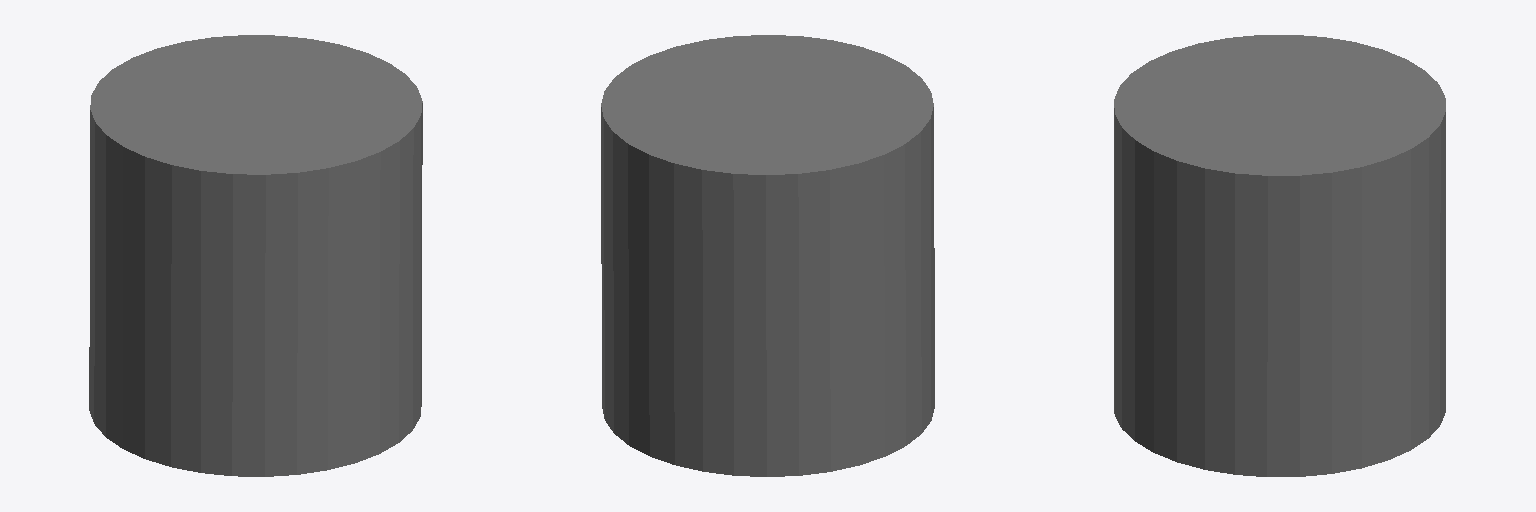
File: cylinderFace.obj
3 renders of one model, left to right at view 1: azimuth 30°, elevation 25°; view 2: azimuth 150°, elevation 25°; view 3: azimuth 270°, elevation 25°, orthographic.
Parts seen in each view (by area): view 1: Cylinder; view 2: Cylinder; view 3: Cylinder.
Boxes of the visible parts, <box> form: Cylinder: <box>89,35,422,476</box>; Cylinder: <box>601,35,934,476</box>; Cylinder: <box>1114,35,1445,476</box>.
Bounding box in the file's own units: 40.01 × 40.13 × 39.92.